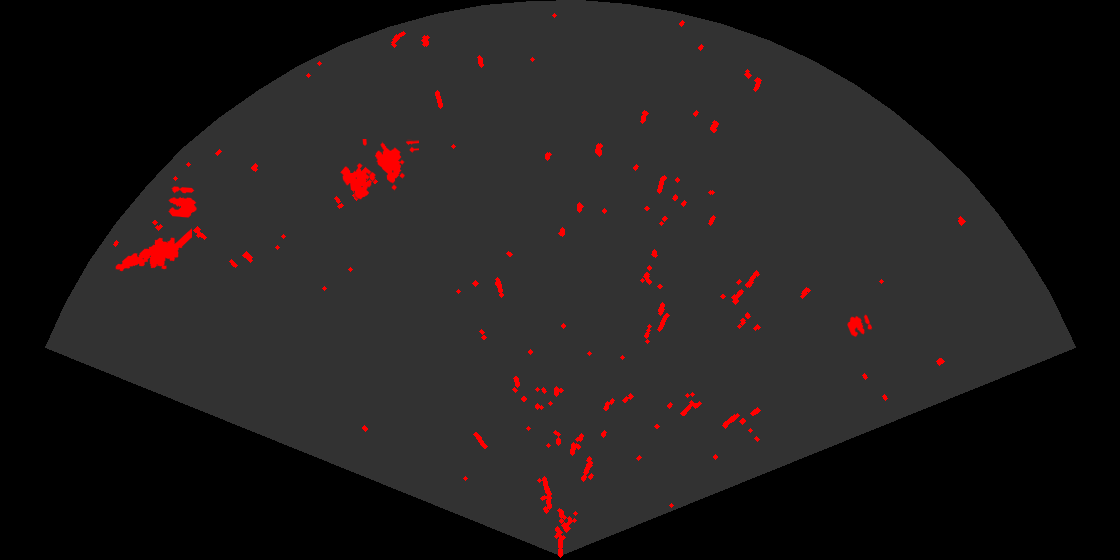ball: (167, 185, 198, 219), (846, 313, 874, 339)
cage: (339, 139, 419, 201)
frogman: (114, 227, 192, 273)
